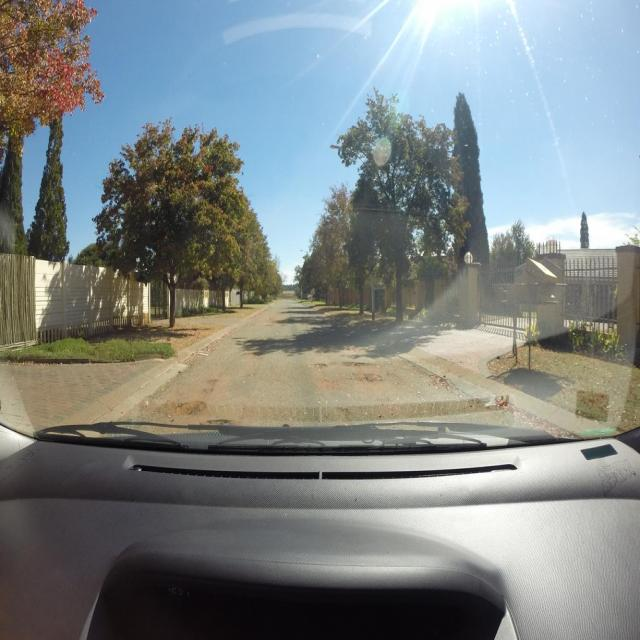Pothole: (173, 400, 209, 415), (349, 373, 382, 382), (342, 362, 368, 366), (206, 420, 230, 424), (312, 363, 329, 367)
